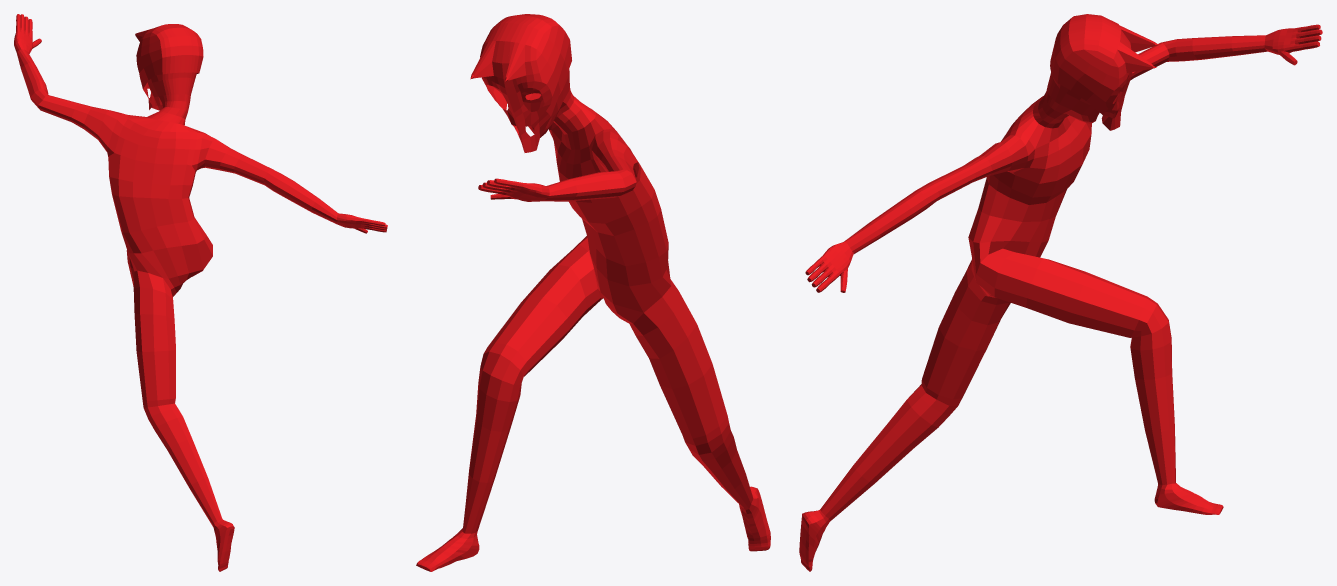
File: saltoadelanteE_000111.obj
3 views of the same model, side by side, from view 1: azimuth 30°, elevation 25°; view 2: azimuth 150°, elevation 25°; view 3: azimuth 270°, elevation 25° (orthographic). The views are drawn at different scales.
Visible parts, largest first — view 1: Plane.002_Plane.001; view 2: Plane.002_Plane.001; view 3: Plane.002_Plane.001.
Boxes of the visible parts, x1,y1,x2,y2 form: Plane.002_Plane.001: (14,14,387,571); Plane.002_Plane.001: (416,14,770,571); Plane.002_Plane.001: (799,14,1322,571).
Bounding box in the file's own units: 3.38 × 6.69 × 5.42.
